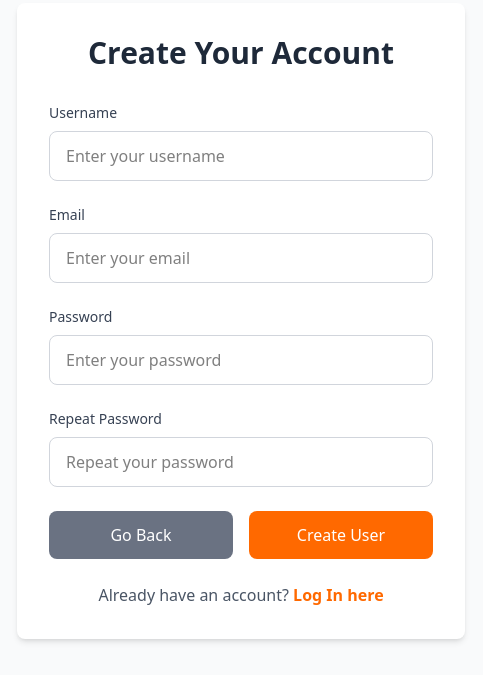
it: Register Component › shows error when passwords do not match
The image size is (483, 675).
Type "testuser" into the field labelled "Username" at (241, 156), box left=49, top=131, right=433, bottom=181
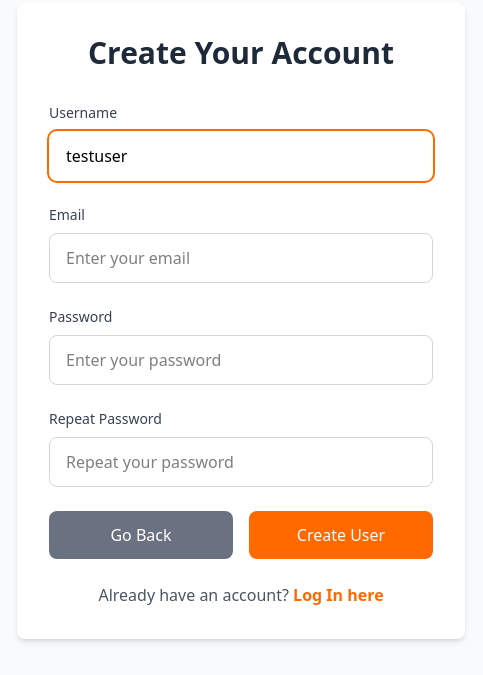
Type "test@example.com" into the field labelled "Email" at (241, 258), box left=49, top=233, right=433, bottom=283
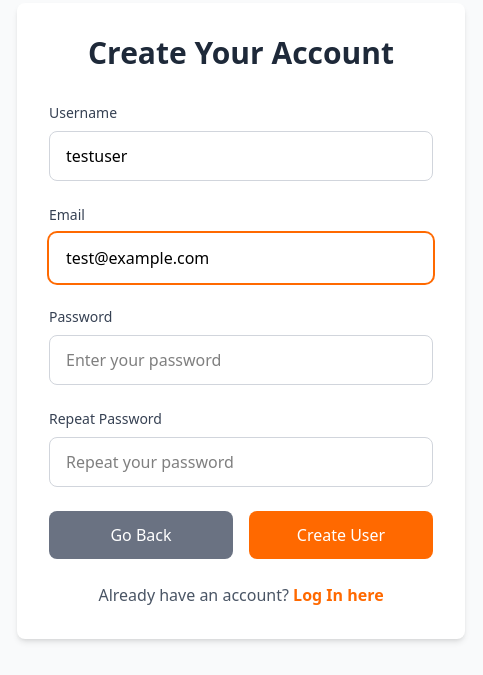
Type "password123" into the password field labelled "Password" at (241, 360), box left=49, top=335, right=433, bottom=385
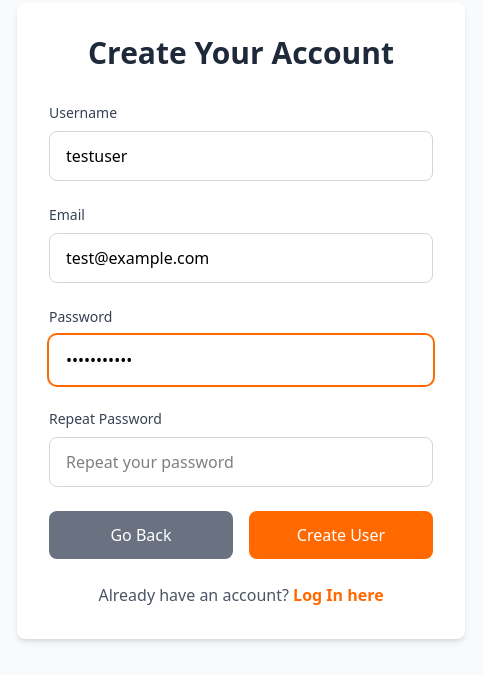
Type "differentpassword" into the password field labelled "Repeat Password" at (241, 462), box left=49, top=437, right=433, bottom=487
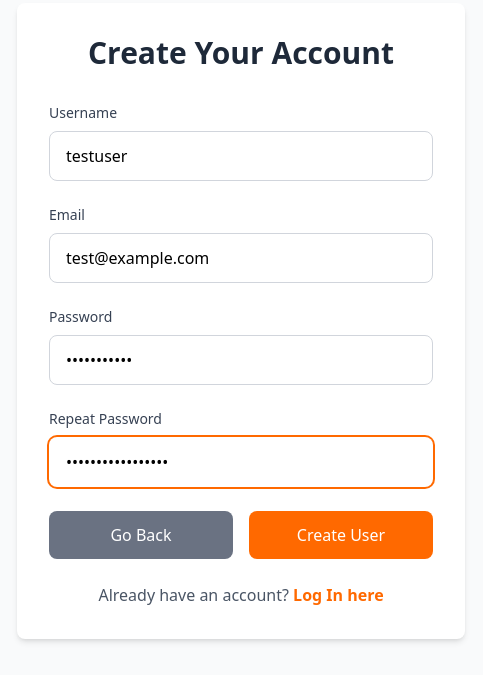
Click the button "Create User" at (341, 535), box left=249, top=511, right=433, bottom=559
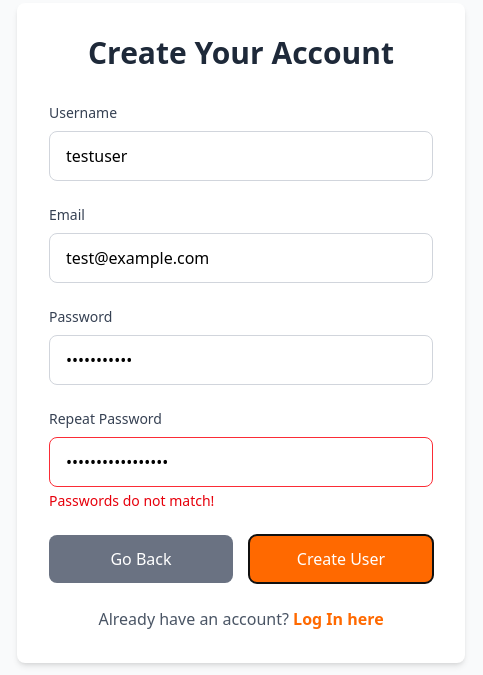
Check: the text "Passwords do not match!" is shown, box left=49, top=491, right=214, bottom=510
